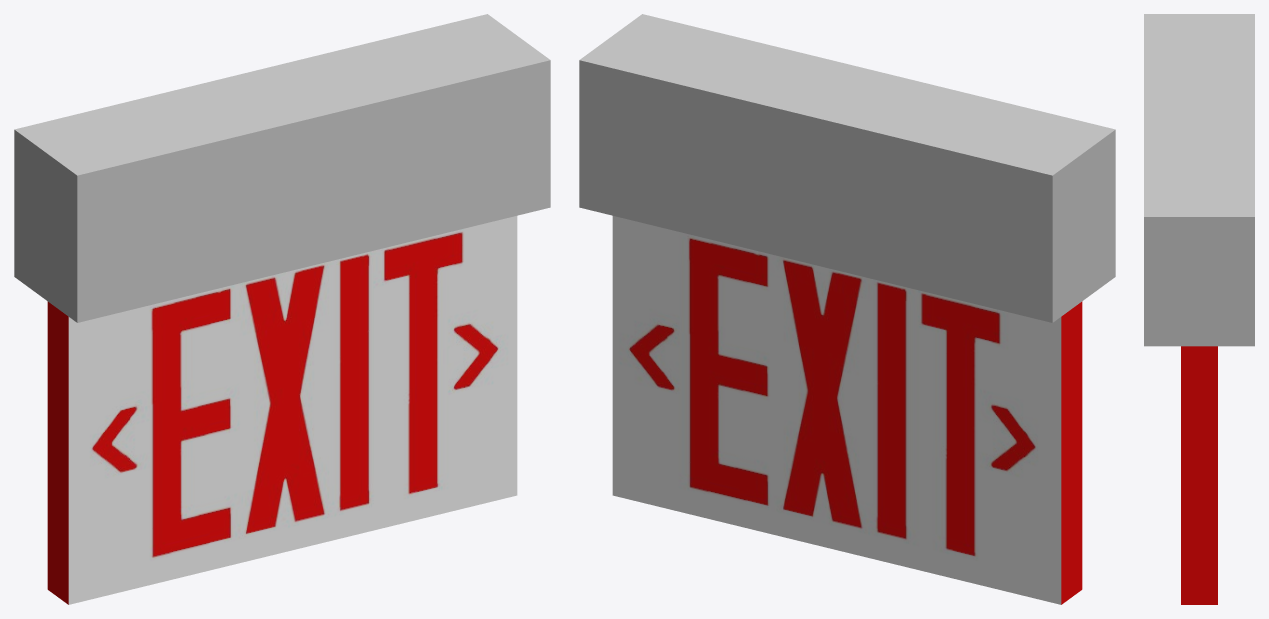
The model's file is GG_Level1_Asset_Exit_Sign.fbx.
3 renders of one model, left to right at view 1: azimuth 30°, elevation 25°; view 2: azimuth 150°, elevation 25°; view 3: azimuth 270°, elevation 25°, orthographic. The views are drawn at different scales.
Visible parts, largest first — view 1: pCube63; view 2: pCube63; view 3: pCube63.
Part boxes in pixels (box(x1,y1,x2,y2)): pCube63: box(14, 14, 550, 604); pCube63: box(579, 14, 1115, 604); pCube63: box(1144, 14, 1254, 604).
Bounding box in the file's own units: 39 × 35.25 × 9.
1 material, 1 textured.
